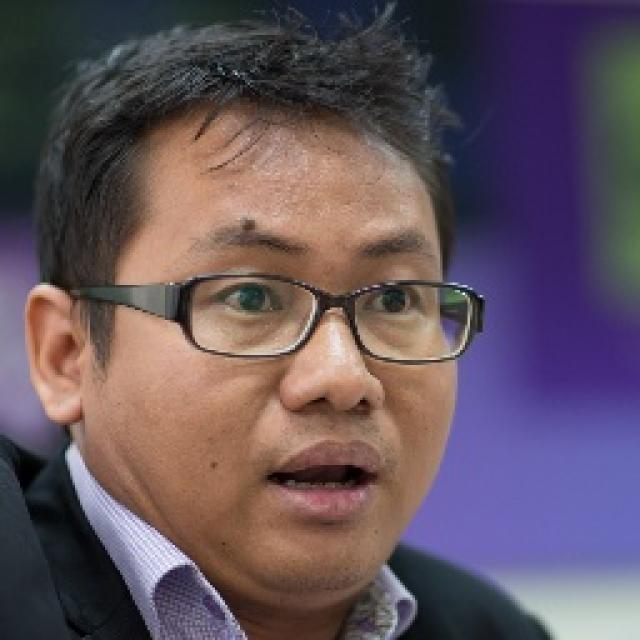earlobe: (23, 284, 85, 428)
